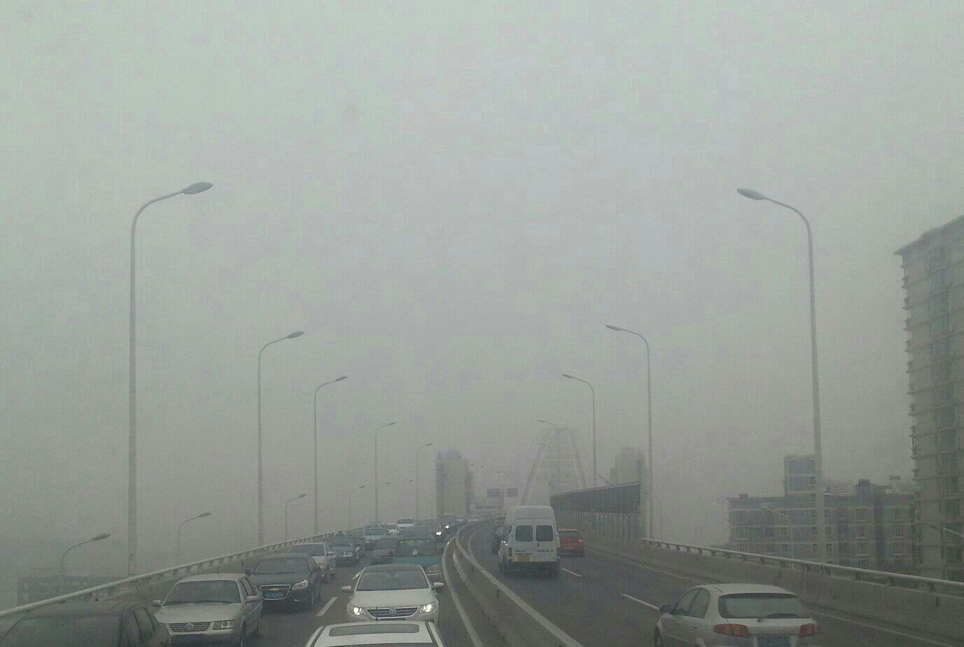car: (654, 582, 821, 647), (151, 572, 265, 647), (1, 602, 172, 647), (340, 563, 446, 634), (304, 606, 451, 647), (243, 553, 325, 613), (497, 504, 560, 580), (388, 532, 445, 593), (282, 542, 337, 584), (321, 530, 362, 568), (369, 538, 414, 566), (554, 528, 585, 559), (490, 526, 519, 556), (418, 518, 450, 540), (363, 524, 387, 551), (435, 513, 459, 535), (395, 517, 416, 539), (381, 523, 403, 543), (493, 515, 510, 528), (465, 514, 482, 526), (477, 512, 491, 524), (451, 514, 466, 525)
